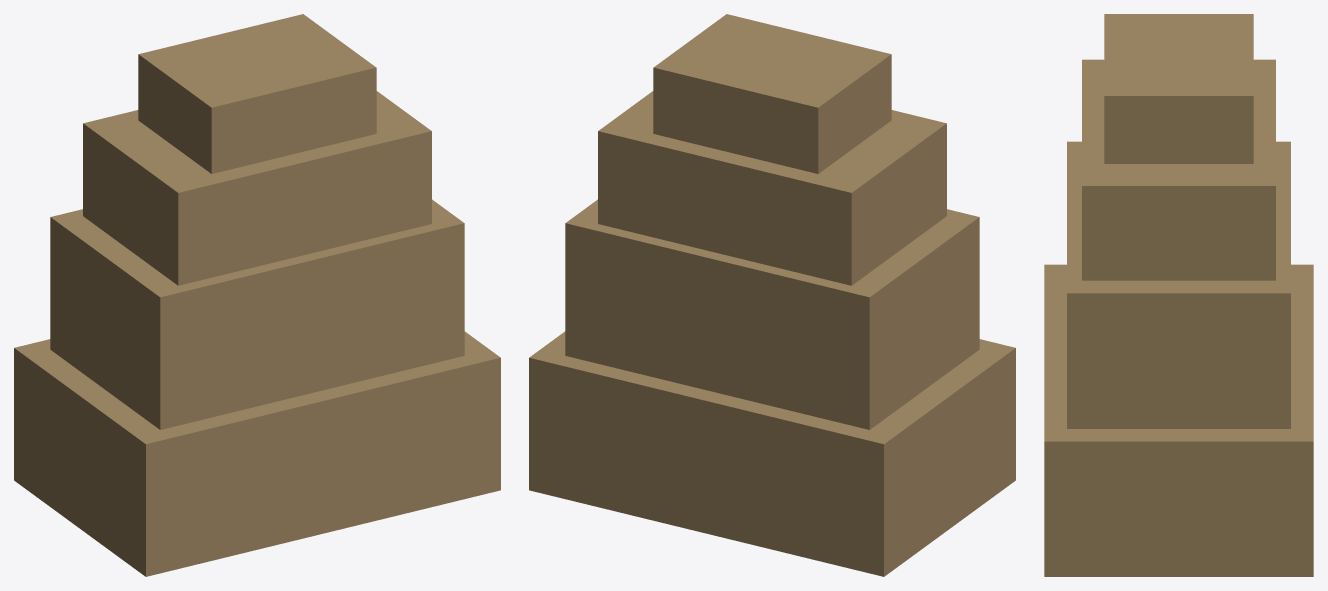
The model's file is HistoricBuilding.obj.
The picture shows the model from 3 angles, left to right: view 1: azimuth 30°, elevation 25°; view 2: azimuth 150°, elevation 25°; view 3: azimuth 270°, elevation 25°; orthographic projection. The views are drawn at different scales.
Parts seen in each view (by area): view 1: HistoricBuilding; view 2: HistoricBuilding; view 3: HistoricBuilding.
Boxes of the visible parts, left/top/right/bottom form: HistoricBuilding: left=14, top=14, right=500, bottom=576; HistoricBuilding: left=529, top=14, right=1015, bottom=576; HistoricBuilding: left=1044, top=14, right=1313, bottom=576.
Bounding box in the file's own units: 2.8 × 3.2 × 1.8.
